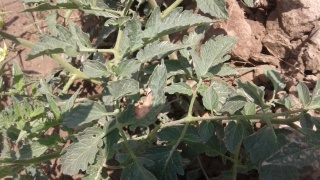tomato diseased leaf: (122, 69, 164, 122)
tomato flower: (1, 39, 13, 63)
tomato plant: (168, 76, 320, 179), (37, 1, 230, 75), (2, 78, 123, 180)
